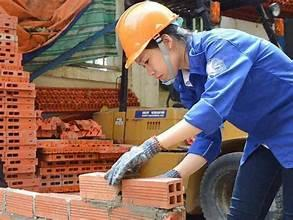Gloves: (103, 134, 163, 185)
Helmet: (114, 0, 180, 69)
Person: (109, 0, 292, 219)
no-vest: (197, 35, 293, 154)
